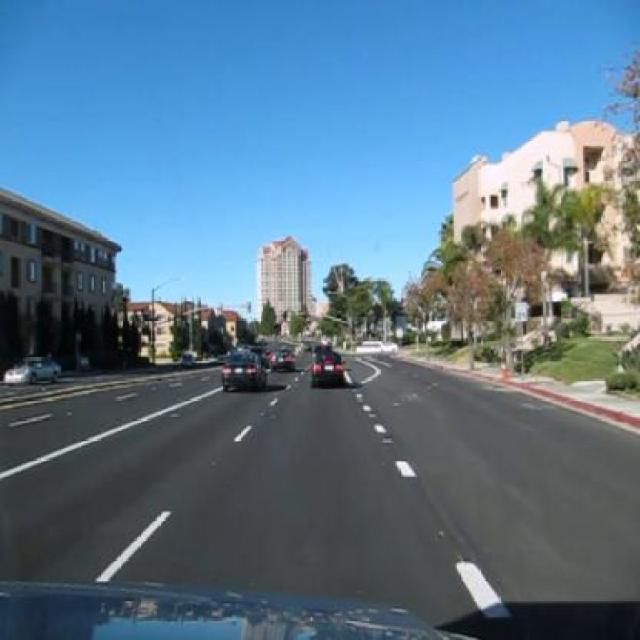speedLimit25: (515, 300, 528, 320)
